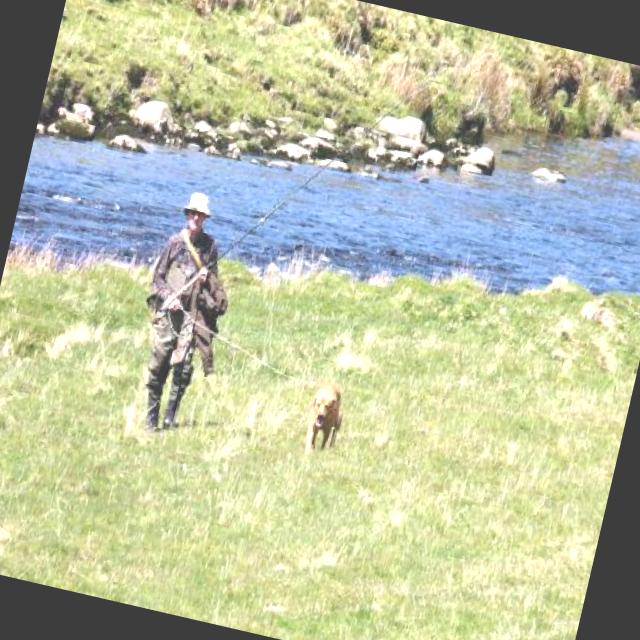Person: (115, 182, 254, 440)
